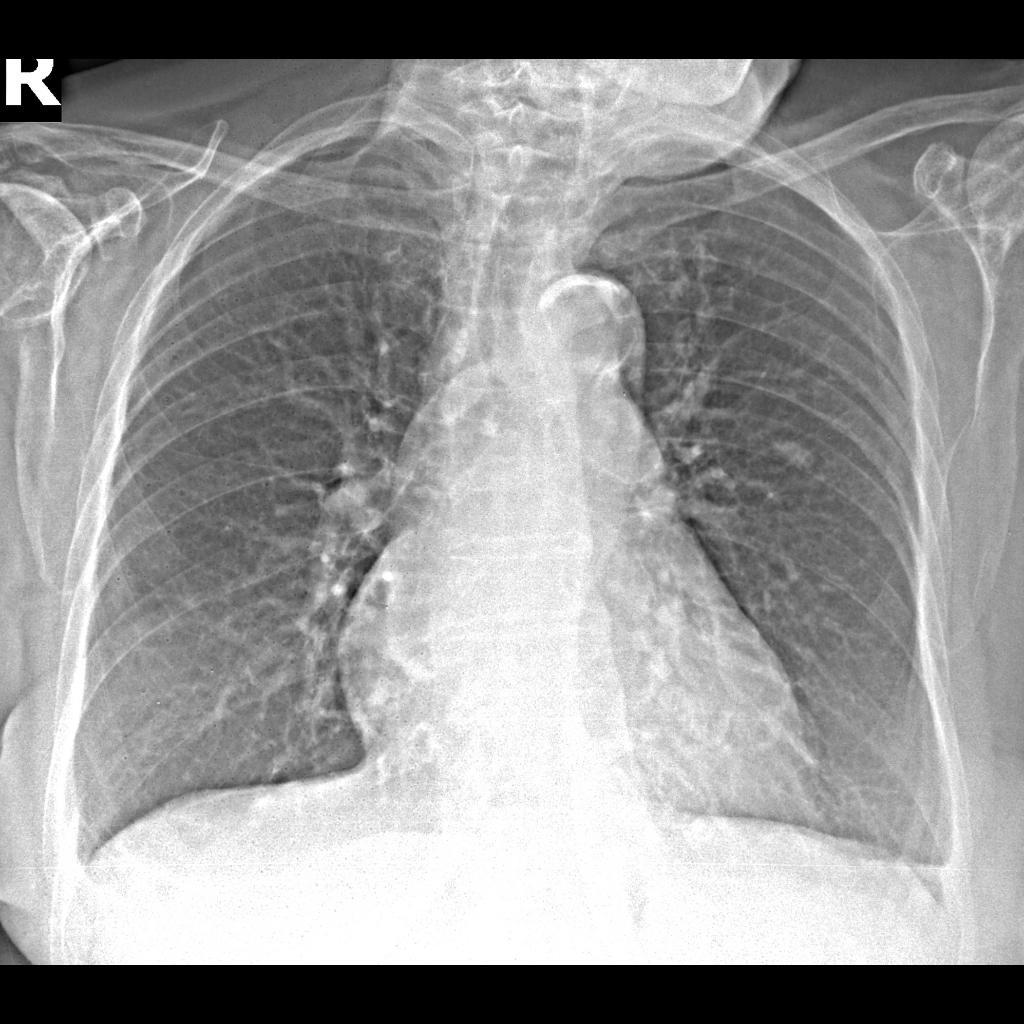Nodule: (773, 429, 825, 478)
